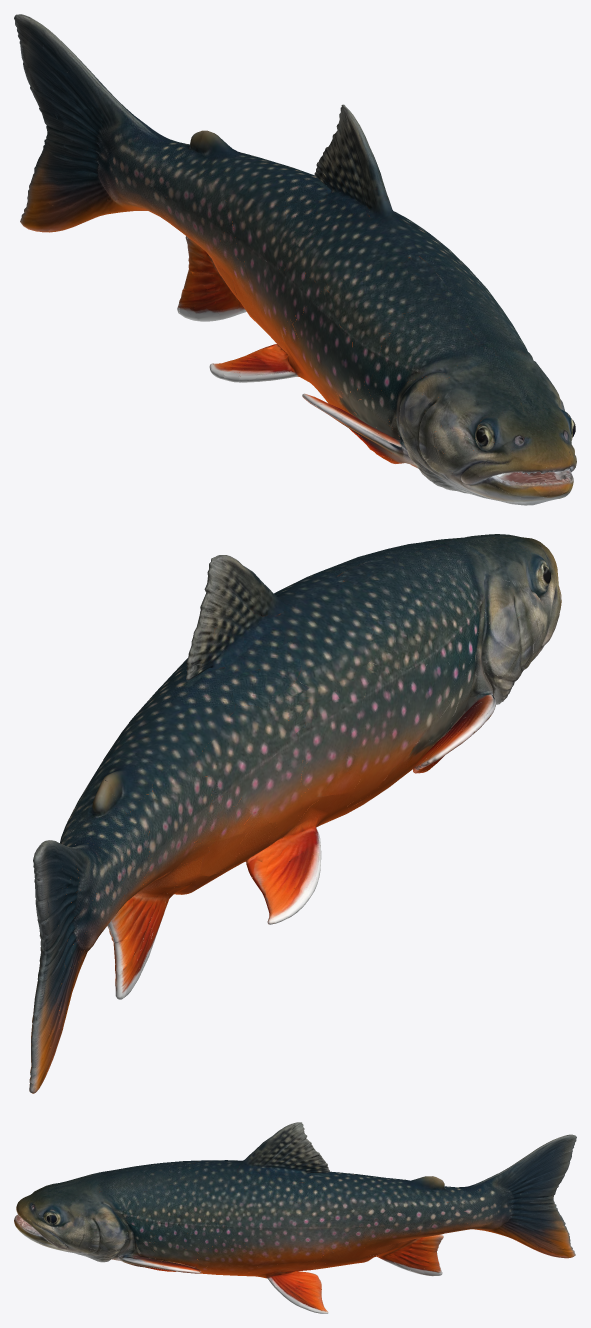
Rendered from palia.glb.
The picture shows the model from 3 angles, top to bottom: view 1: azimuth 30°, elevation 25°; view 2: azimuth 150°, elevation 25°; view 3: azimuth 270°, elevation 25°; orthographic projection. The views are drawn at different scales.
Visible parts, largest first — view 1: Mesh_0; view 2: Mesh_0; view 3: Mesh_0.
Boxes of the visible parts, x1,y1,x2,y2 form: Mesh_0: (14,14,576,505); Mesh_0: (29,534,561,1093); Mesh_0: (14,1122,576,1313).
Bounding box in the file's own units: 0.447 × 0.6686 × 1.9.
Materials: 1 (1 with a texture image).
